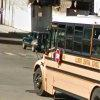Bus: (31, 16, 100, 99)
